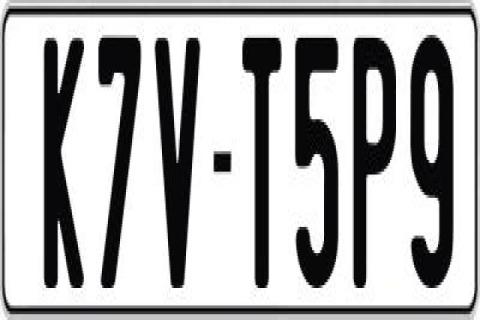0: (407, 32, 455, 300), (292, 35, 338, 303), (94, 38, 138, 291)
K: (40, 29, 84, 297)
P: (350, 32, 394, 296)
T: (240, 29, 284, 297)
V: (152, 38, 199, 302)
